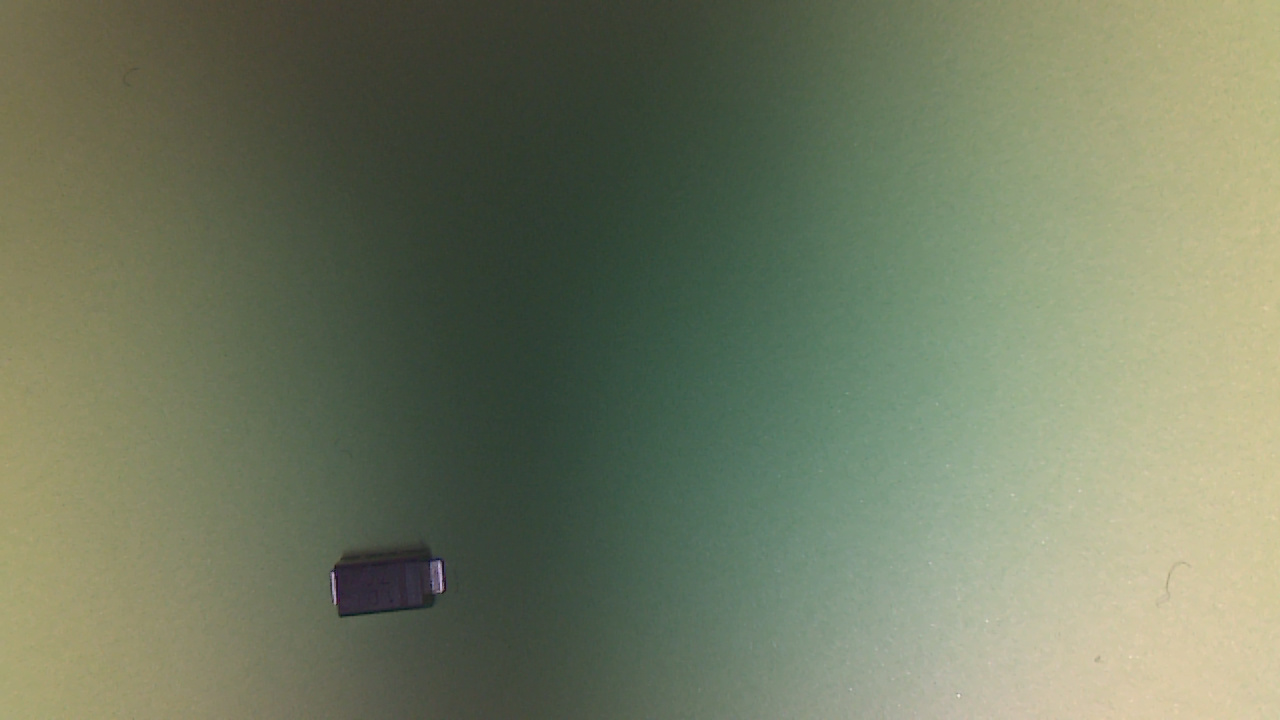Diode: (330, 546, 452, 626)
